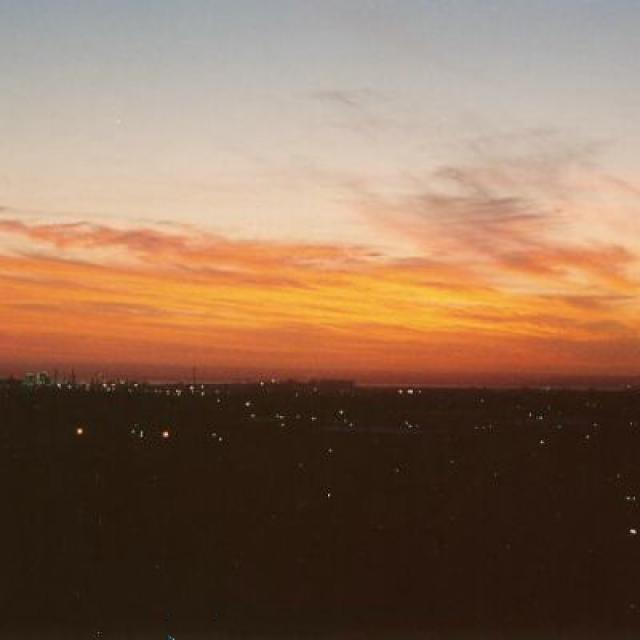Cs: (1, 105, 640, 370)
